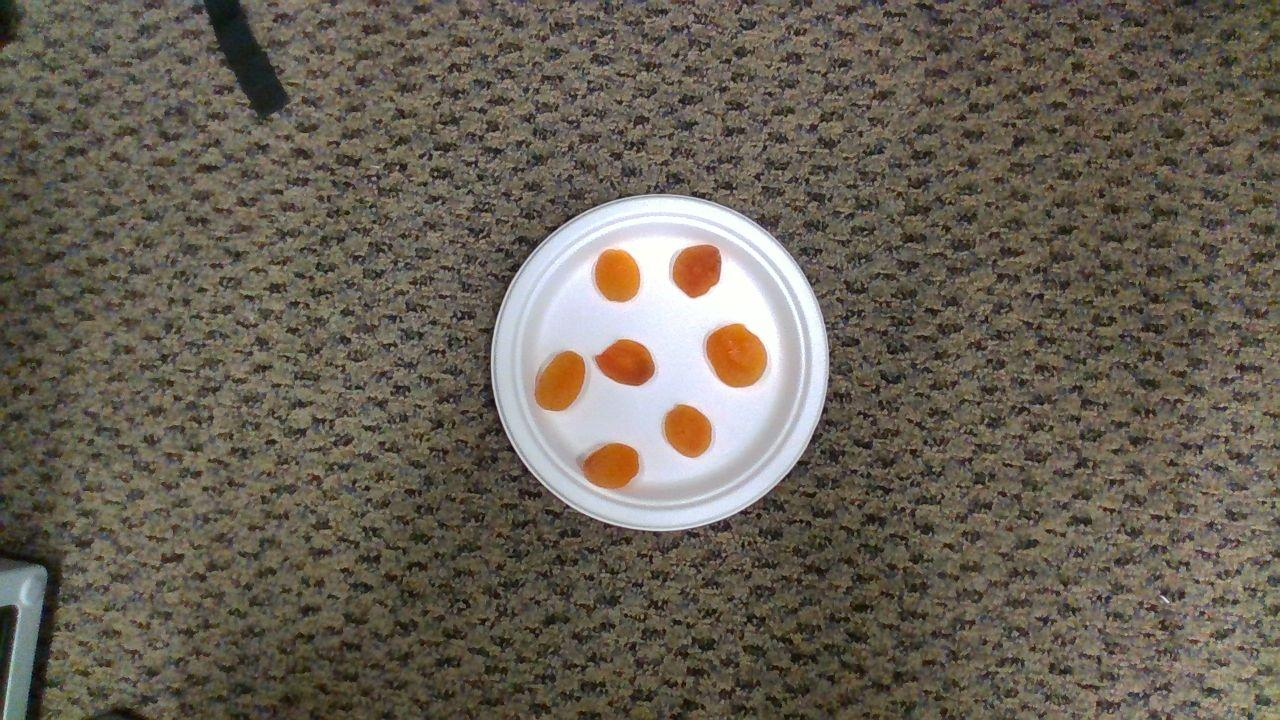apricot: (708, 324, 766, 387), (536, 350, 585, 412), (595, 338, 654, 385), (673, 245, 721, 298), (584, 444, 638, 490), (666, 406, 712, 458), (596, 249, 640, 302)
